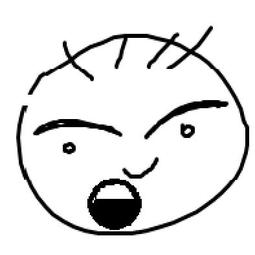eyebrow: (24, 114, 130, 140)
frowning_eyebrow: (143, 97, 228, 139)
nose: (122, 147, 169, 182)
open_mouth: (74, 174, 156, 237)
small_eye: (57, 137, 76, 161), (179, 122, 197, 140)
